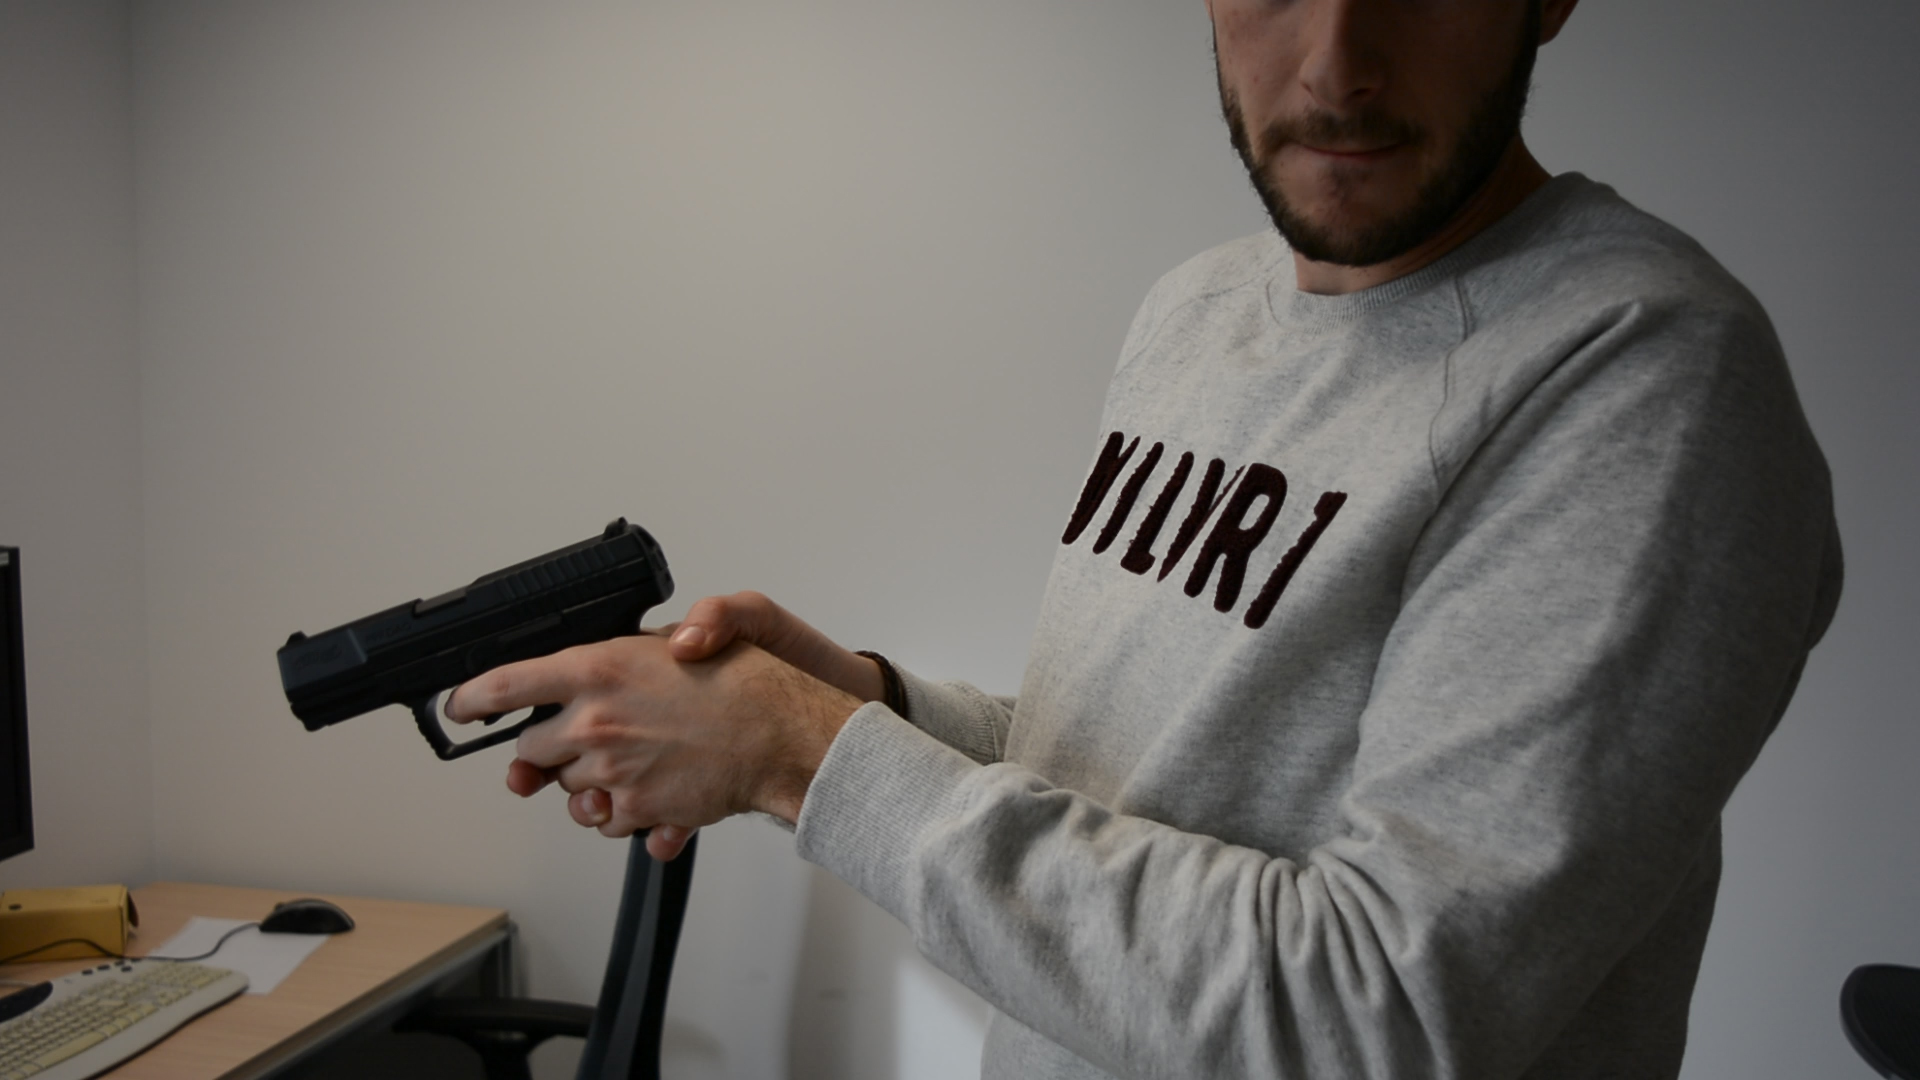pistol: (274, 513, 679, 765)
